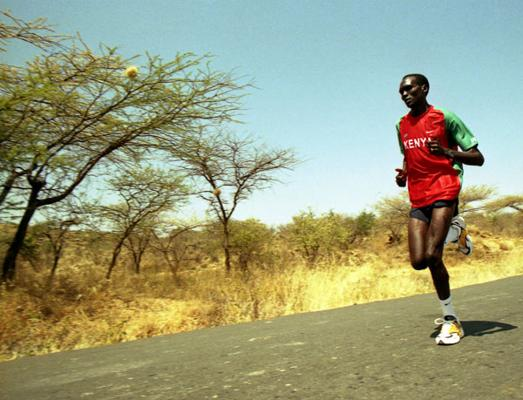person: (397, 73, 483, 349)
